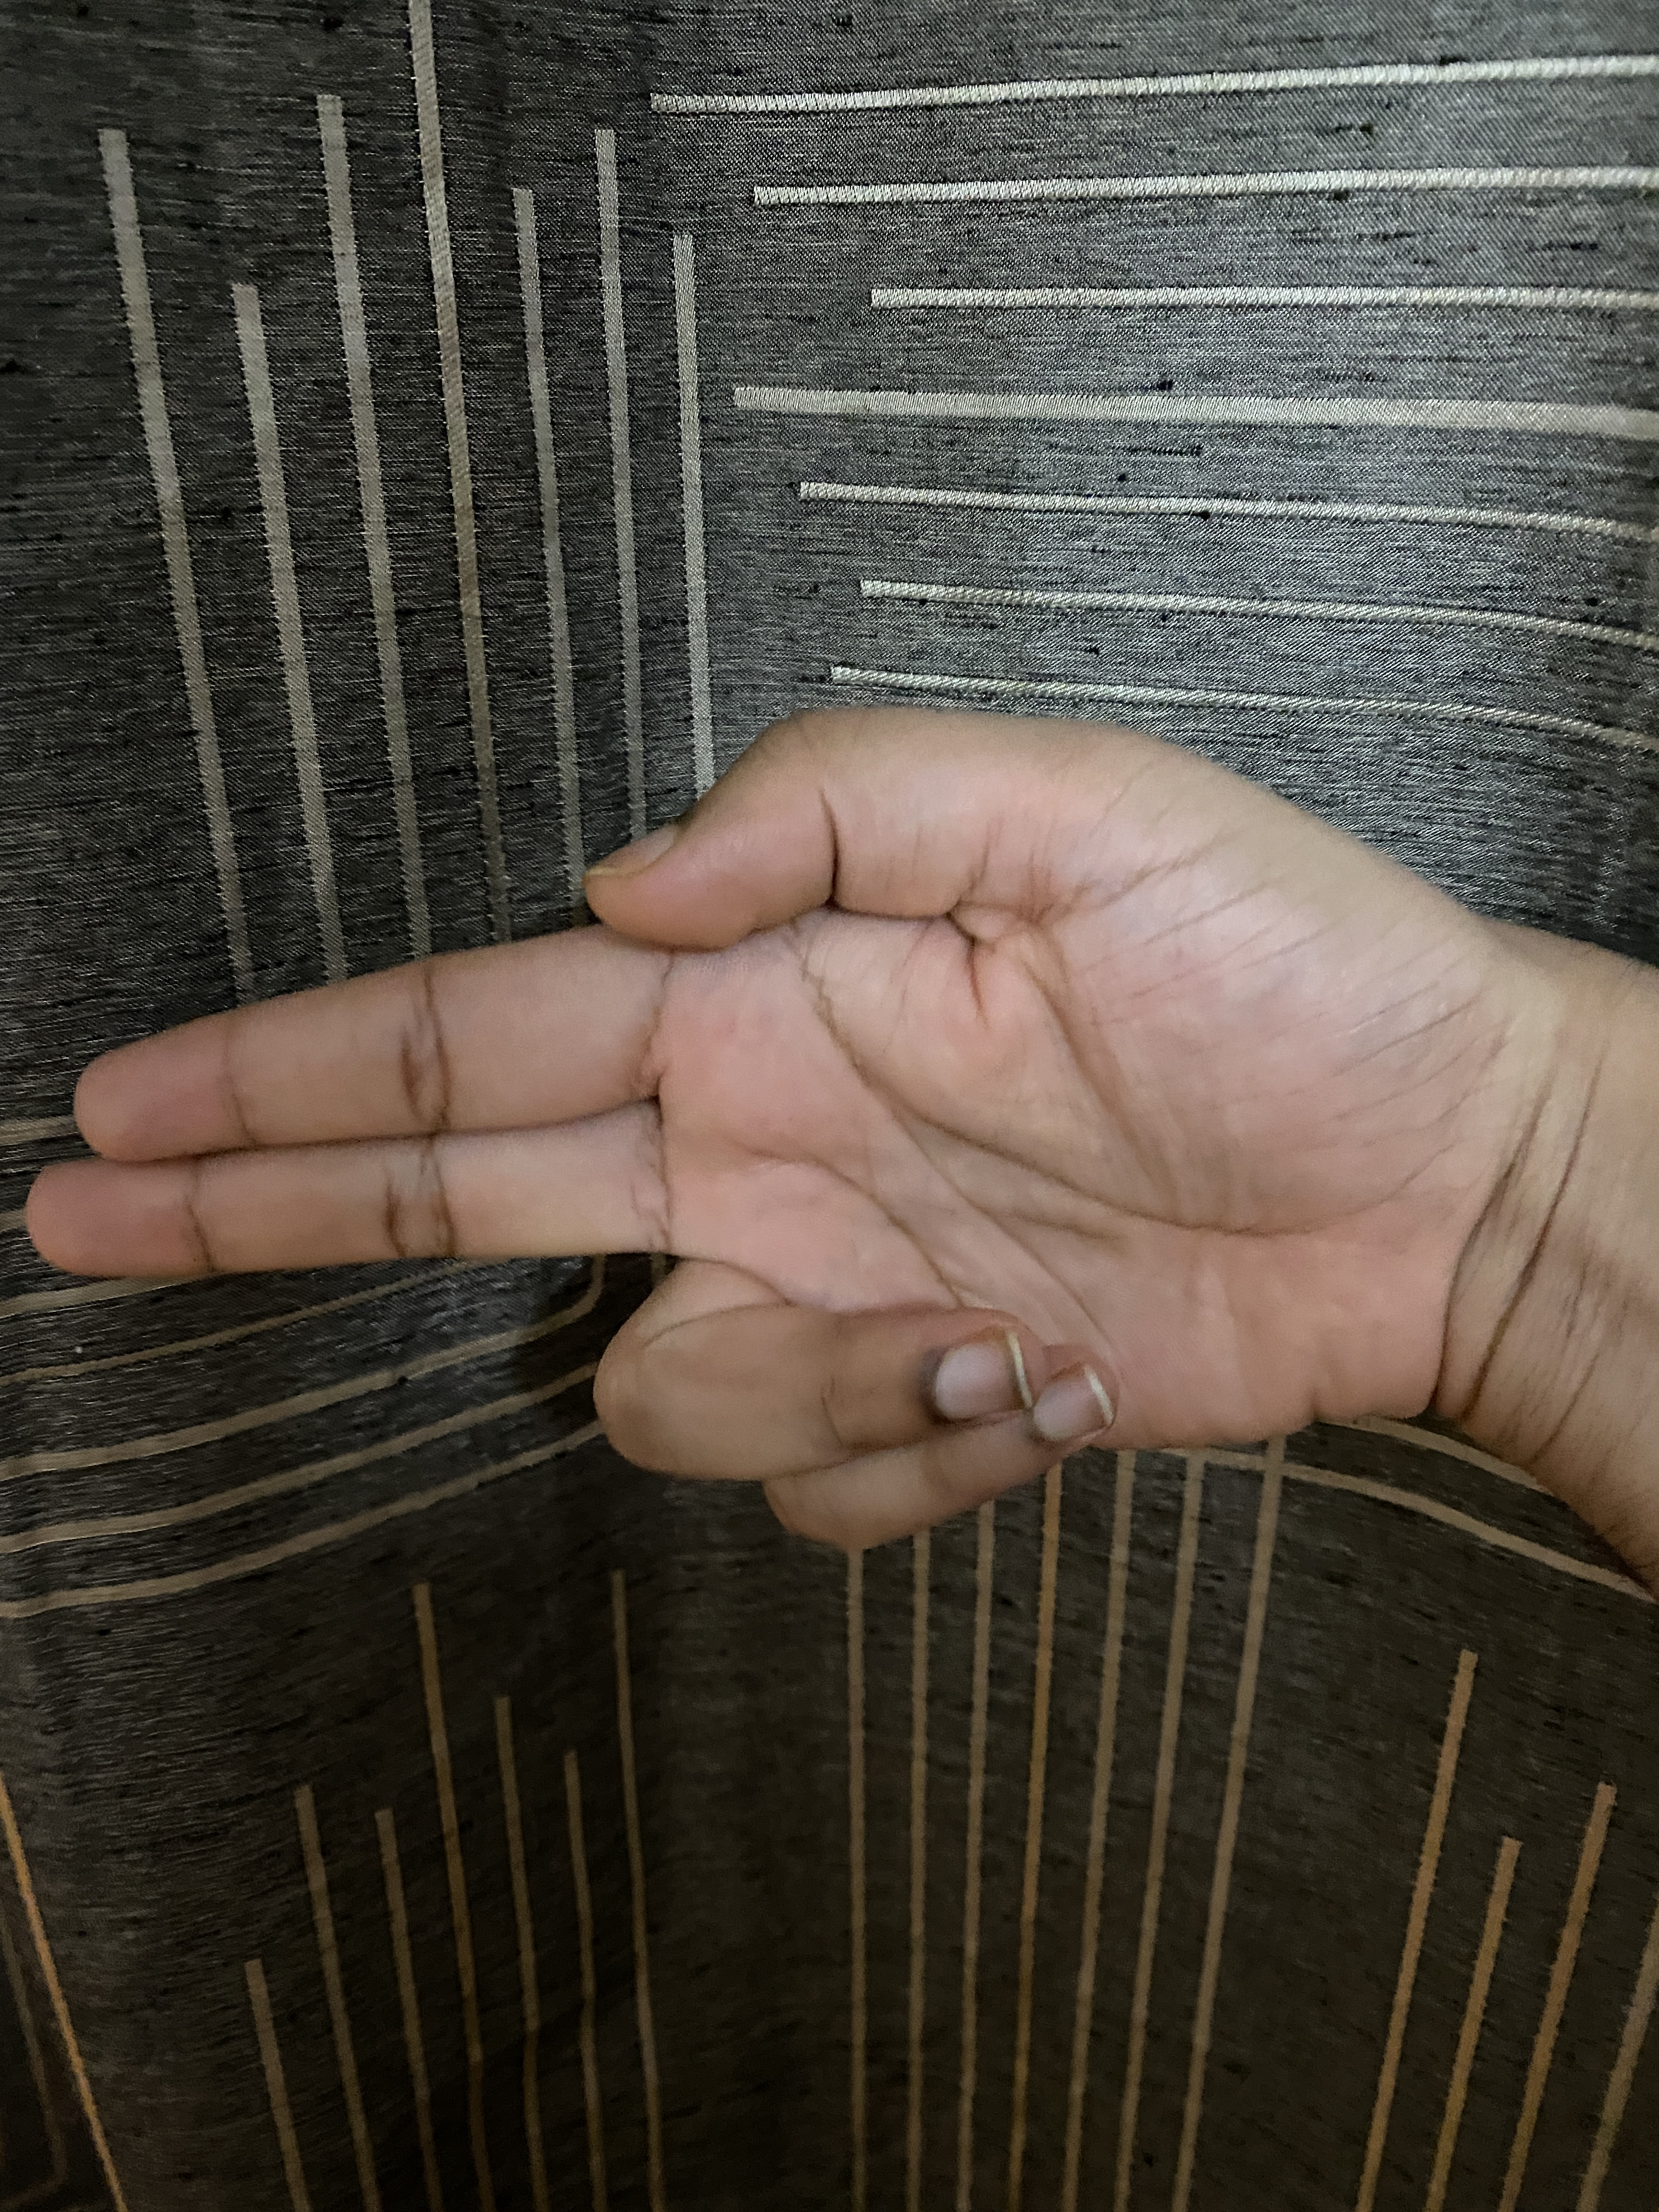right: (42, 559, 1659, 1742)
